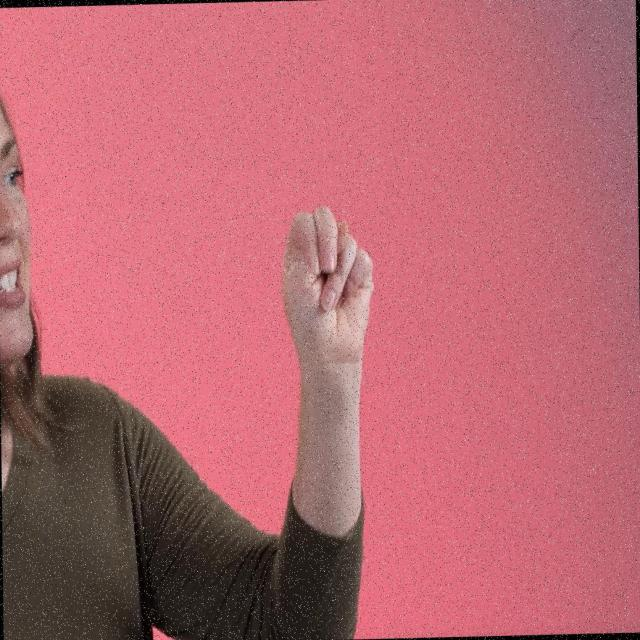N: (278, 198, 378, 361)
